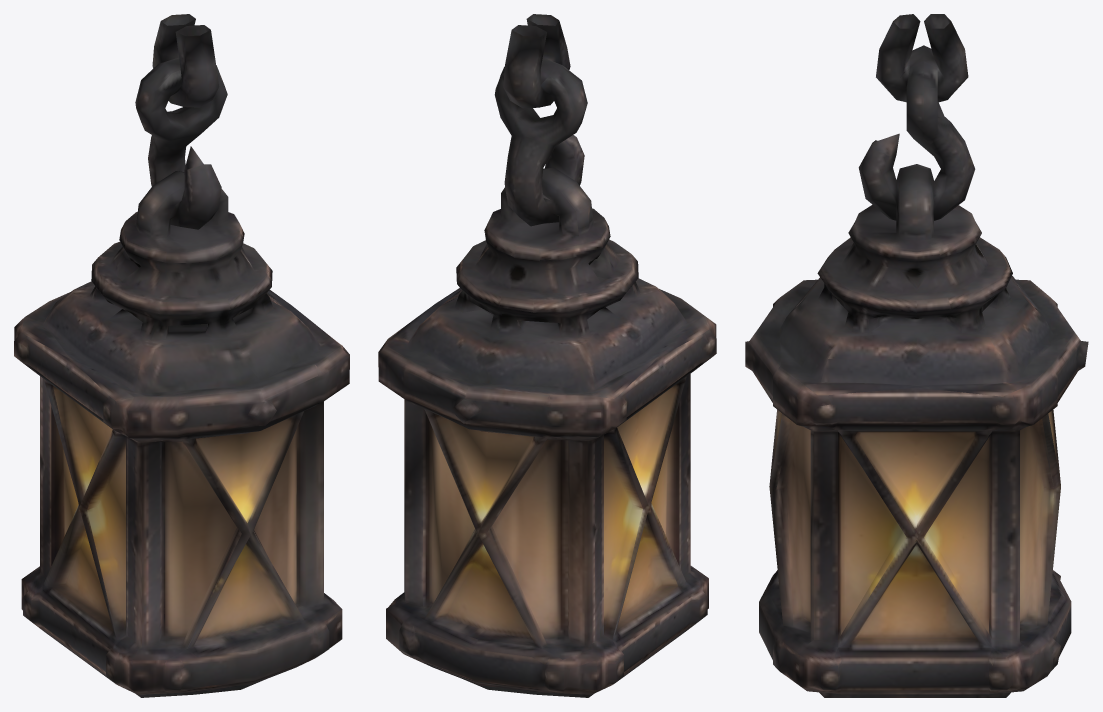
Rendered from SM_EnvCP_LanternHead.fbx.
3 views of the same model, side by side, from view 1: azimuth 30°, elevation 25°; view 2: azimuth 150°, elevation 25°; view 3: azimuth 270°, elevation 25° (orthographic). The views are drawn at different scales.
Visible parts, largest first — view 1: SM_EnvCP_LanternHead; view 2: SM_EnvCP_LanternHead; view 3: SM_EnvCP_LanternHead.
Part boxes in pixels (x1=…): SM_EnvCP_LanternHead: x1=14, y1=14, x2=349, y2=697; SM_EnvCP_LanternHead: x1=378, y1=14, x2=716, y2=697; SM_EnvCP_LanternHead: x1=745, y1=14, x2=1088, y2=697.
Size of the model in its own units: 15.43 by 18.59 by 38.11.
